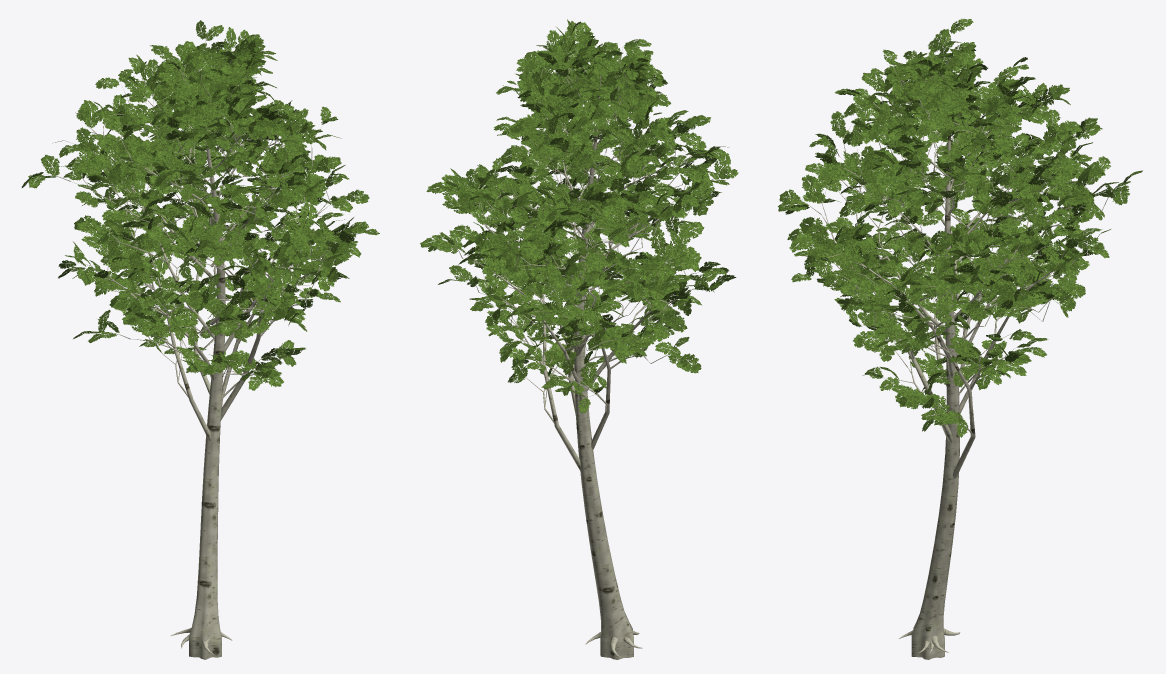
Rendered from SilverBirch.fbx.
3 renders of one model, left to right at view 1: azimuth 30°, elevation 25°; view 2: azimuth 150°, elevation 25°; view 3: azimuth 270°, elevation 25°, orthographic. The views are drawn at different scales.
Visible parts, largest first — view 1: SilverBirch_LOD0; view 2: SilverBirch_LOD0; view 3: SilverBirch_LOD0.
Boxes of the visible parts, x1,y1,x2,y2 form: SilverBirch_LOD0: (22, 20, 379, 659); SilverBirch_LOD0: (420, 19, 738, 659); SilverBirch_LOD0: (778, 18, 1142, 659).
Size of what is drawn, in the model's own units: 1062 by 2138 by 1178.
Materials: 2 (2 with a texture image).
